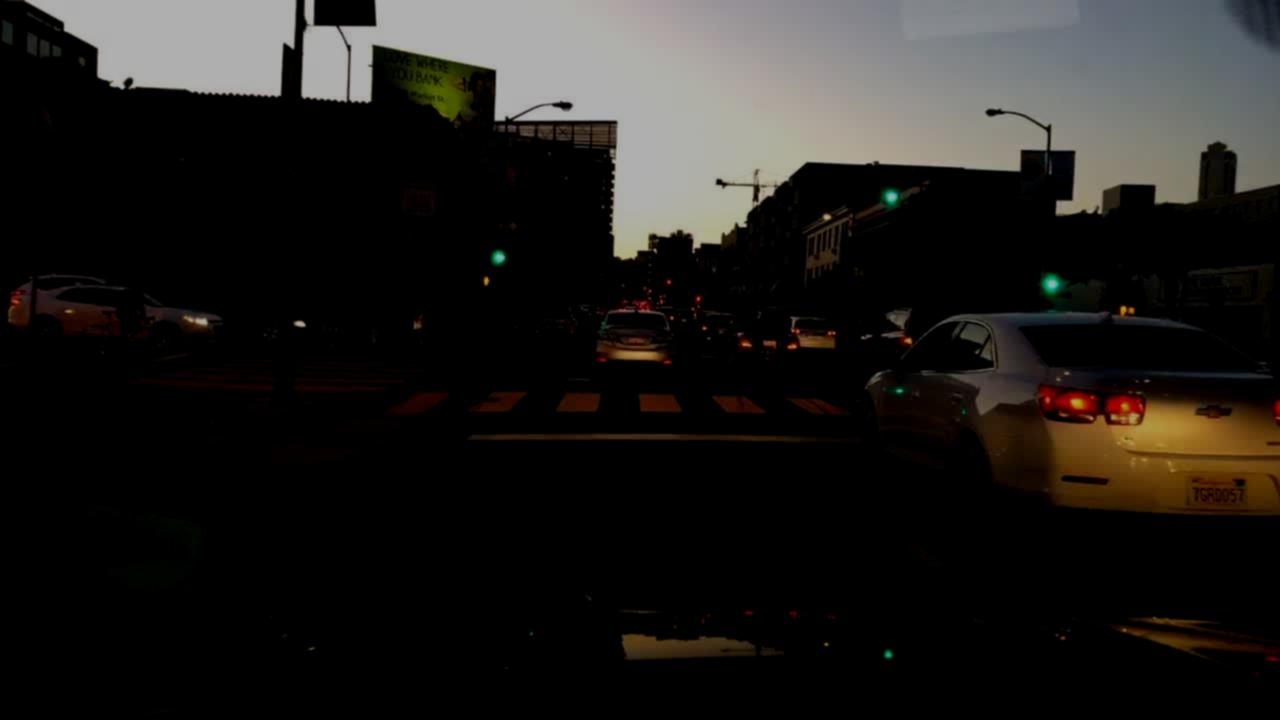chevrolet: (1182, 397, 1237, 430)
